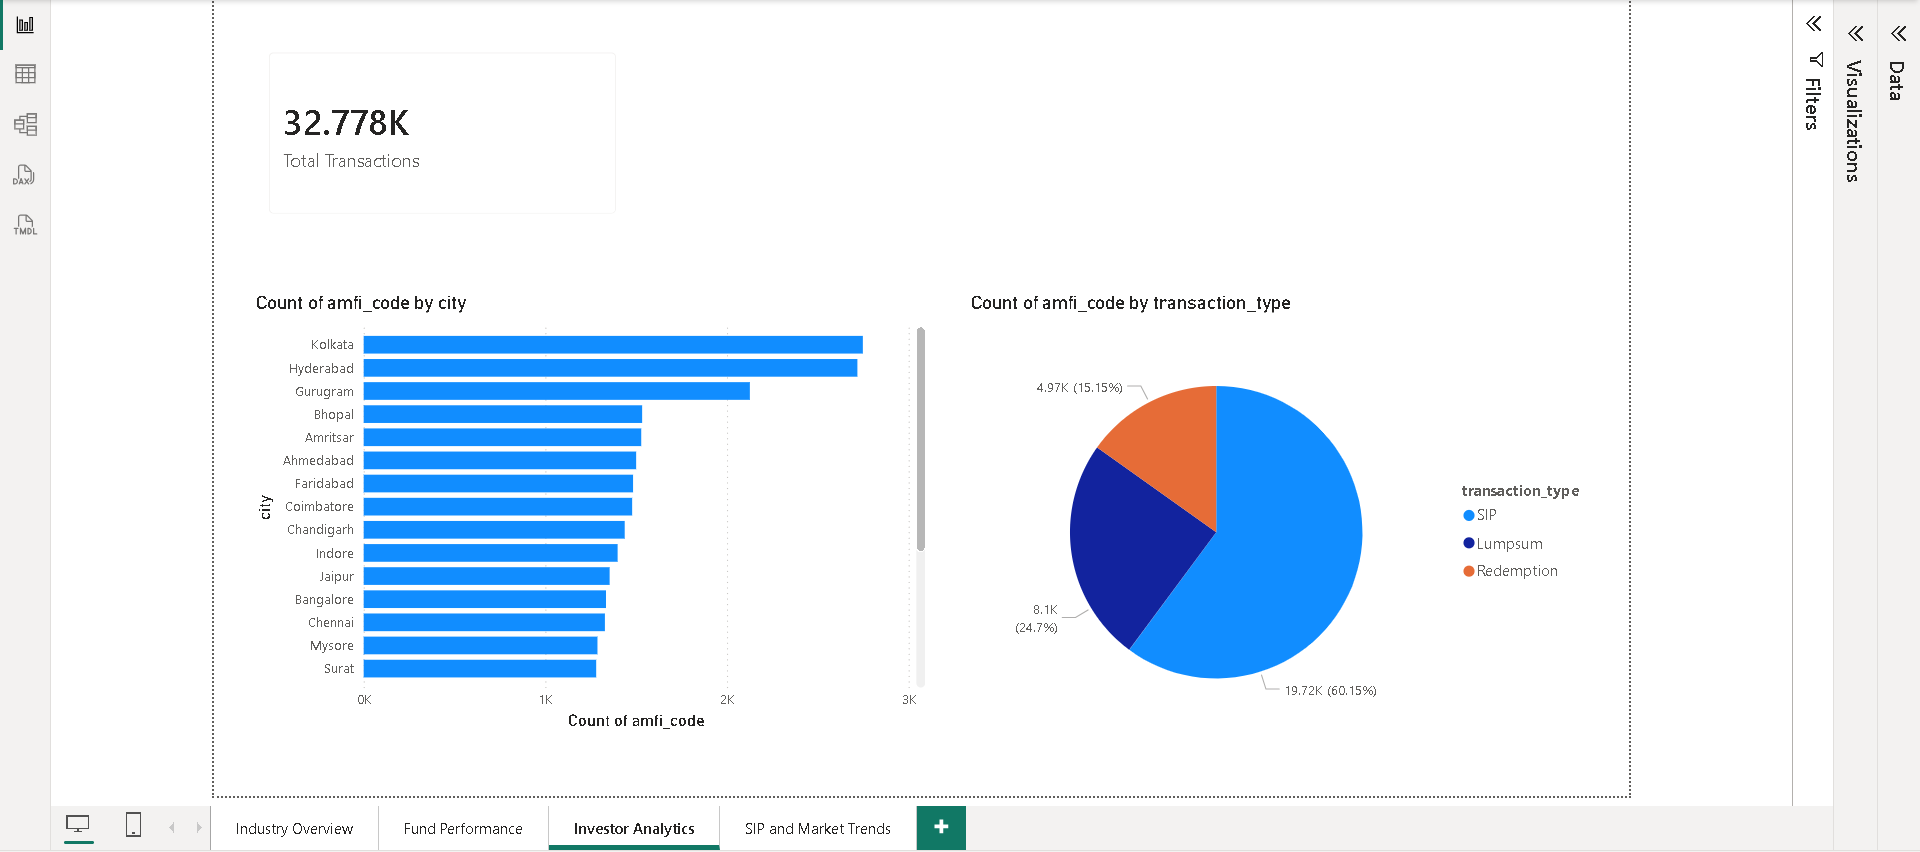

What the dashboard file says about the page in this screenshot:
{"tool":"powerbi","page":{"name":"Investor Analytics","canvas":[1280,720],"ordinal":2},"visuals":[{"type":"cardVisual","fields":{"Data":["CountNonNull(clean_investor_transactions.amfi_code)"]},"box":[32.9,30,348.6,180],"z":0},{"type":"pieChart","fields":{"Category":["clean_investor_transactions.transaction_type"],"Y":["CountNonNull(clean_investor_transactions.amfi_code)"]},"box":[679.4,264,571.4,417.1],"z":1000},{"type":"clusteredBarChart","fields":{"Category":["clean_investor_transactions.city"],"Y":["CountNonNull(clean_investor_transactions.amfi_code)"]},"box":[32.3,264,615.7,401.4],"z":2000}]}

Visuals, with their boxes on the page's 1280x720 design canvas (x1, y1, x2, y2). These are canvas units, not pixel positions in the 1920x852 screenshot, which may show the page scaled, cropped or inside an application window:
cardVisual - CountNonNull(clean_investor_transactions.amfi_code): region(33, 30, 382, 210)
pieChart - clean_investor_transactions.transaction_type x CountNonNull(clean_investor_transactions.amfi_code): region(679, 264, 1251, 681)
clusteredBarChart - clean_investor_transactions.city x CountNonNull(clean_investor_transactions.amfi_code): region(32, 264, 648, 665)
